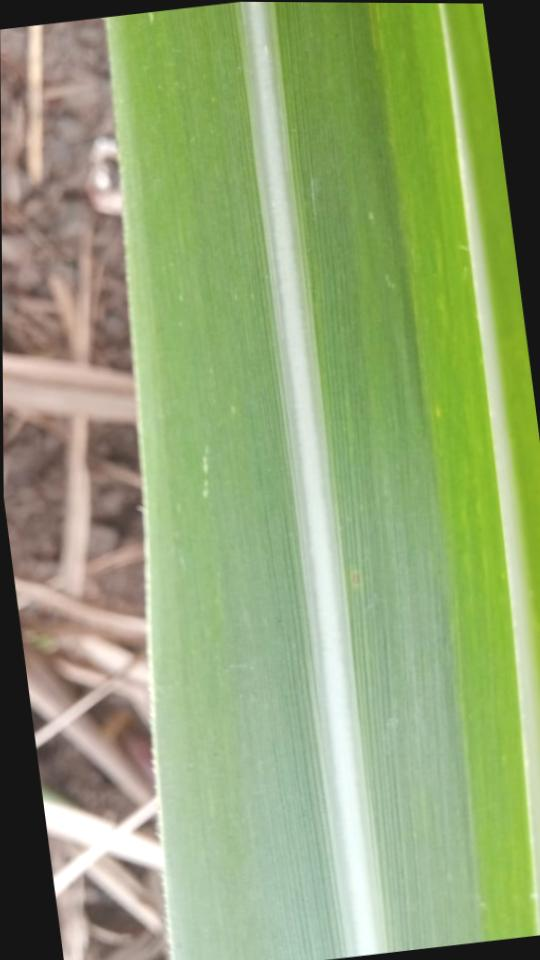Healthy: (103, 2, 471, 960), (370, 3, 540, 941)
